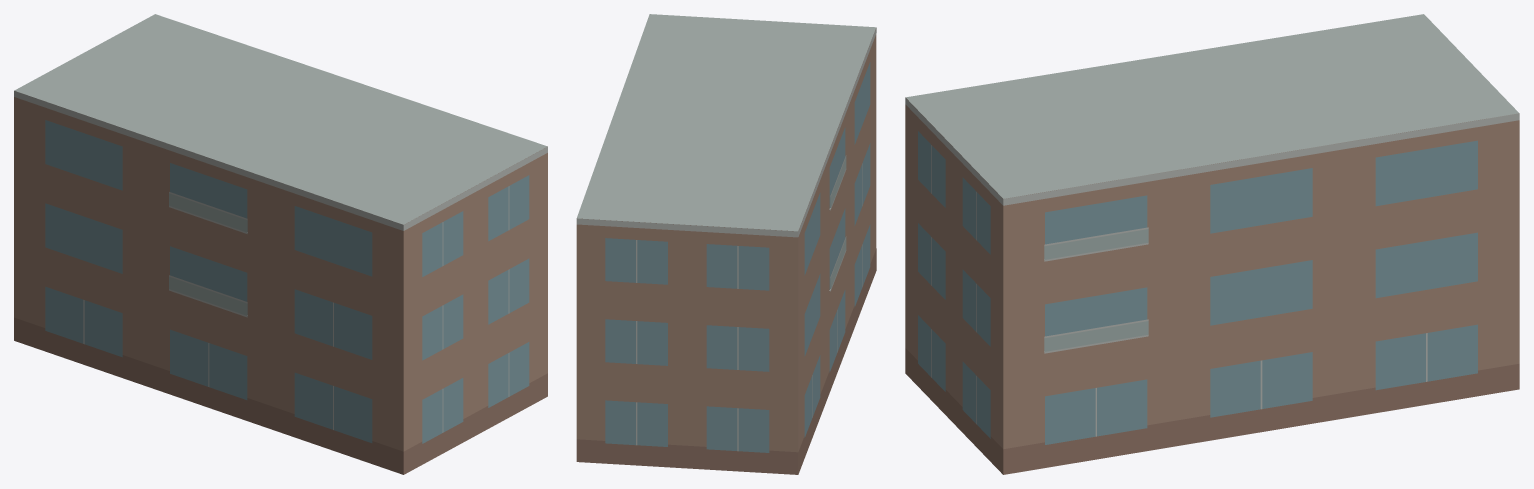
The model's file is survey-upis-32888780.glb.
3 renders of one model, left to right at view 1: azimuth 30°, elevation 25°; view 2: azimuth 150°, elevation 25°; view 3: azimuth 270°, elevation 25°, orthographic. The views are drawn at different scales.
Visible parts, largest first — view 1: survey-upis-32888780.tmp; view 2: survey-upis-32888780.tmp; view 3: survey-upis-32888780.tmp.
Boxes of the visible parts, x1,y1,x2,y2 form: survey-upis-32888780.tmp: (14,14,547,474); survey-upis-32888780.tmp: (576,14,876,474); survey-upis-32888780.tmp: (905,14,1519,474).
Size of the model in its own units: 14.09 by 9.8 by 19.77.
